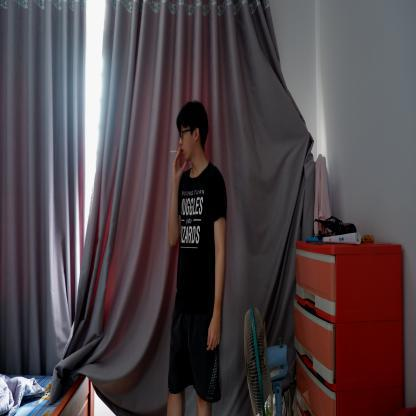cigarette: (170, 150, 178, 154)
person: (168, 99, 230, 415)
